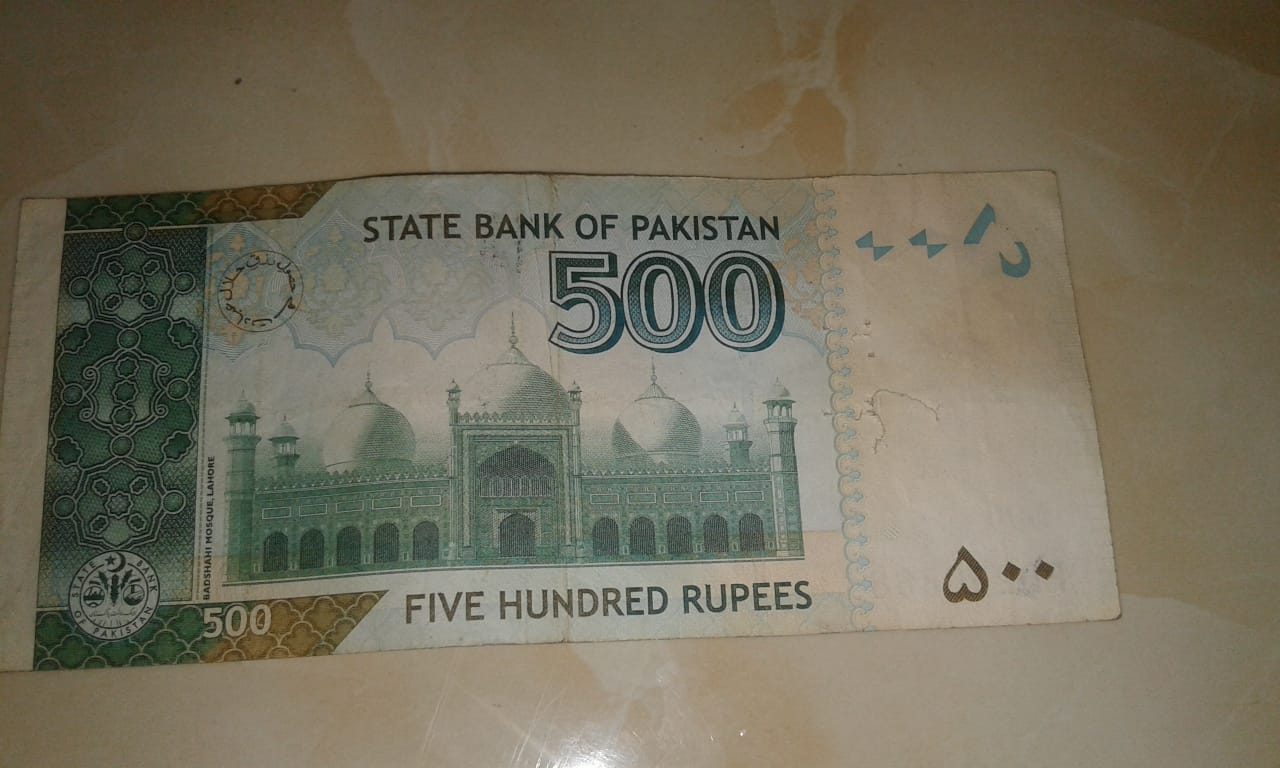500 rupee: (17, 173, 1180, 654)
